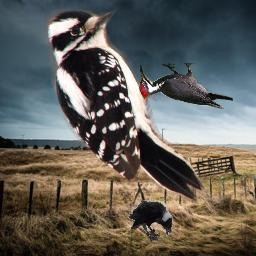Crow: (128, 200, 173, 241)
Woodpecker: (46, 9, 207, 206), (139, 63, 233, 109)
